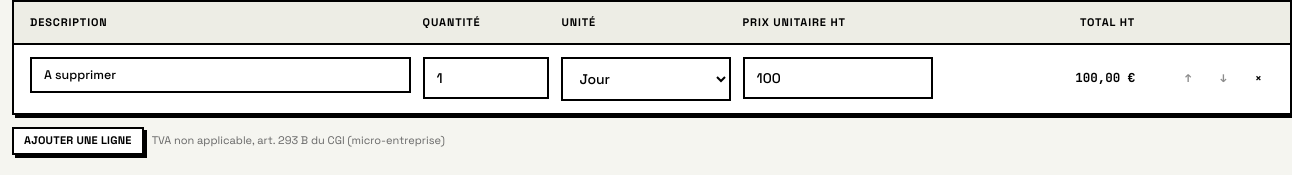
Test: ItemsEditor › supprime un item via le bouton ×
Click the button with test id "item-remove-0".
click(1258, 78)  # box x1=1243 y1=64 x2=1274 y2=92
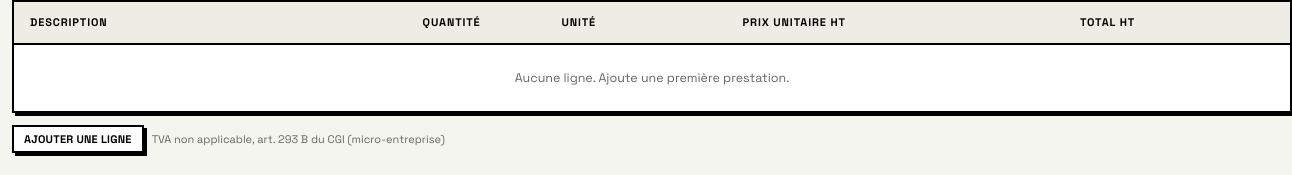
Check: the text "Aucune ligne. Ajoute une première prestation." is shown, box x1=515 y1=70 x2=789 y2=86
